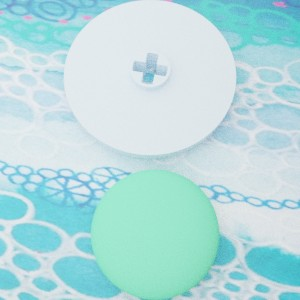lego: (63, 0, 236, 158), (90, 169, 219, 300)
